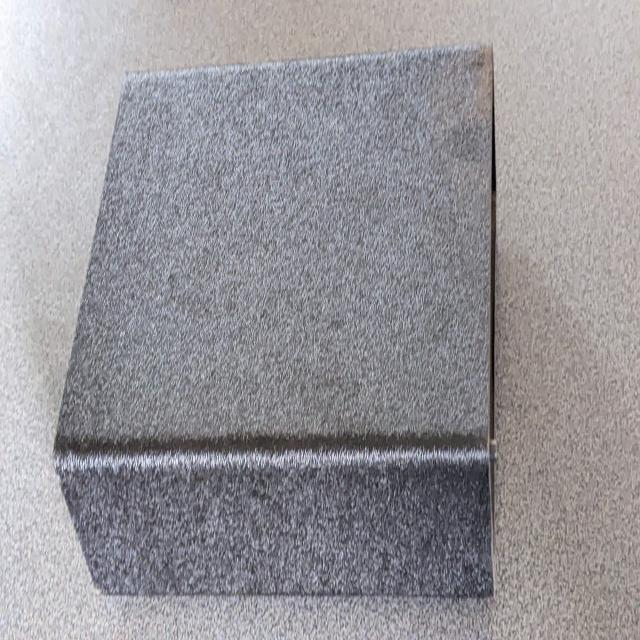SRP Digital Spark Timer: (50, 32, 518, 621)
